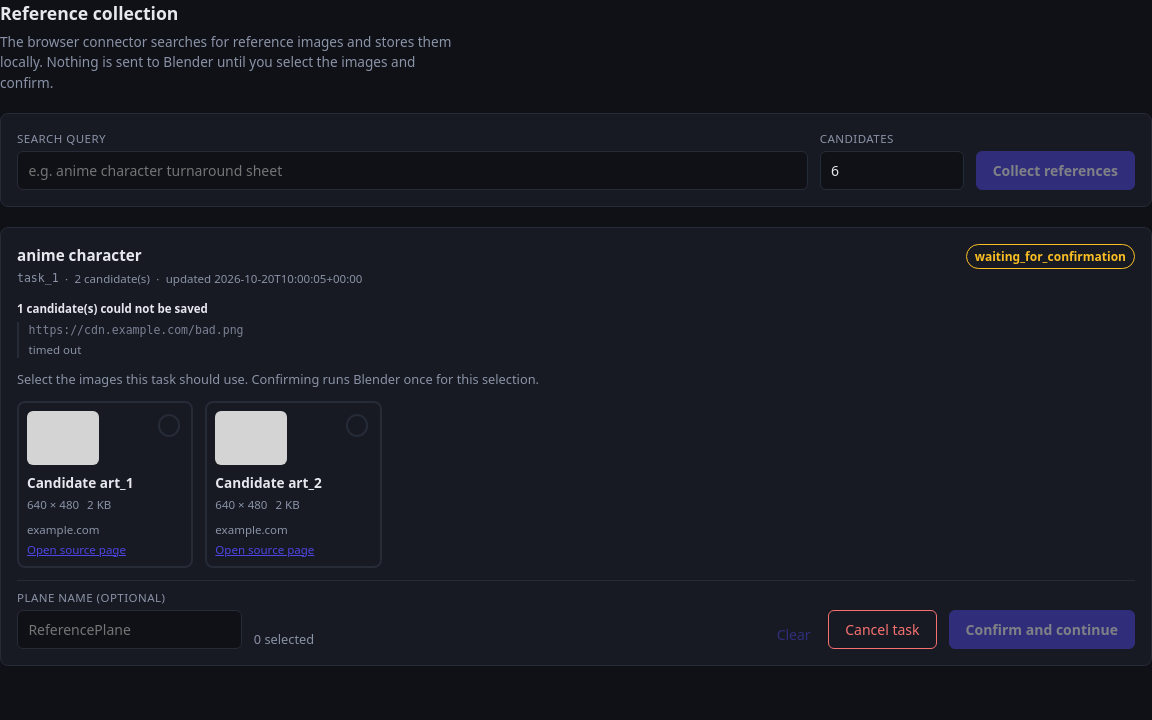
Test case: ReferencesView › reports a structured runtime error and refreshes after a conflict
Click the checkbox with test id "card-art_1". click: (105,484)
box: [17,401,193,568]
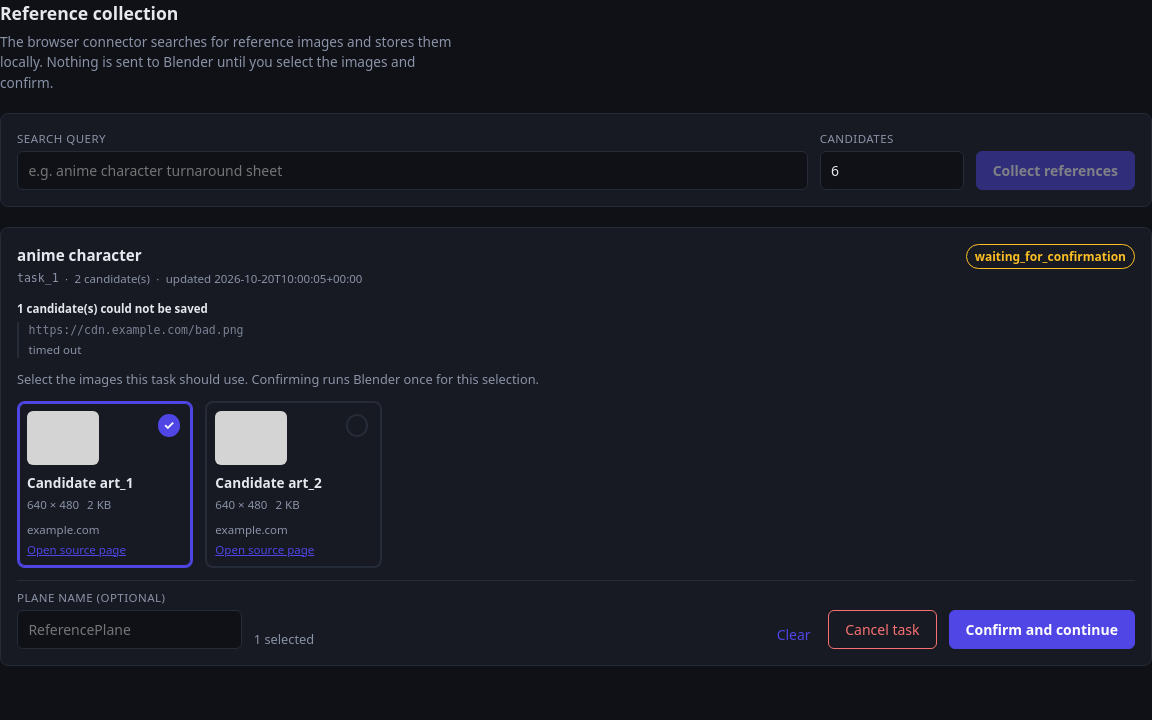
Click the button with test id "confirm". click: (1042,630)
box: [948,610,1135,649]
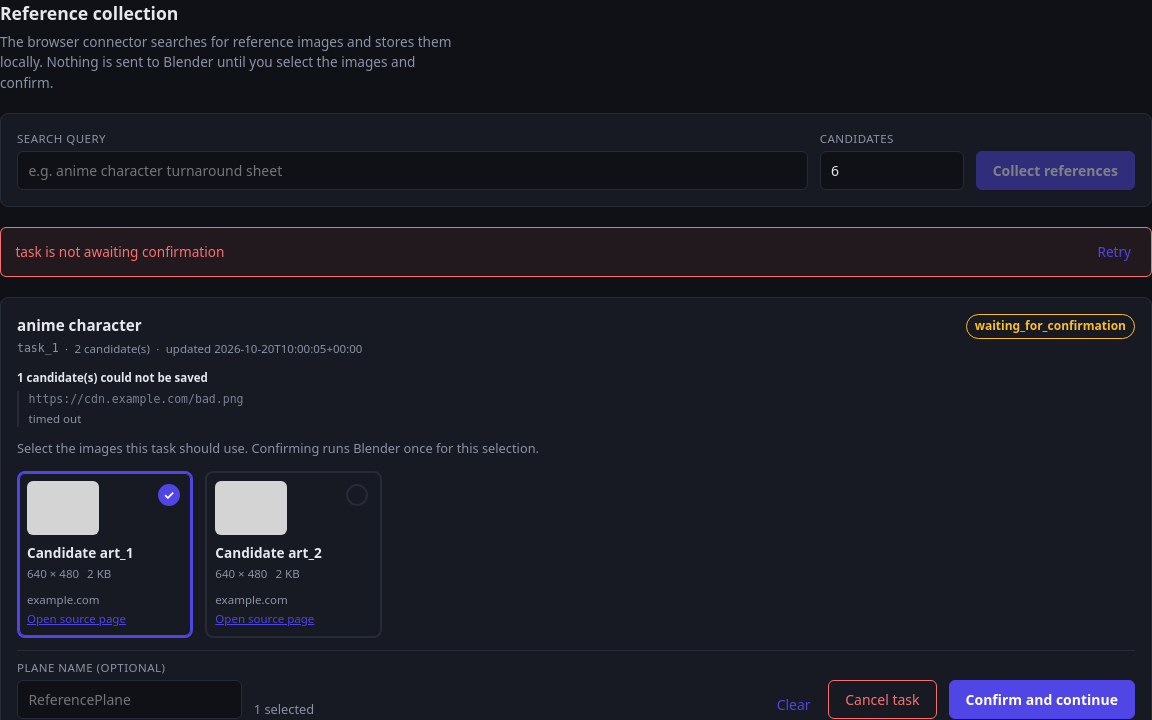
Result: the text "task is not awaiting confirmation" is shown at [15,242,224,262]
